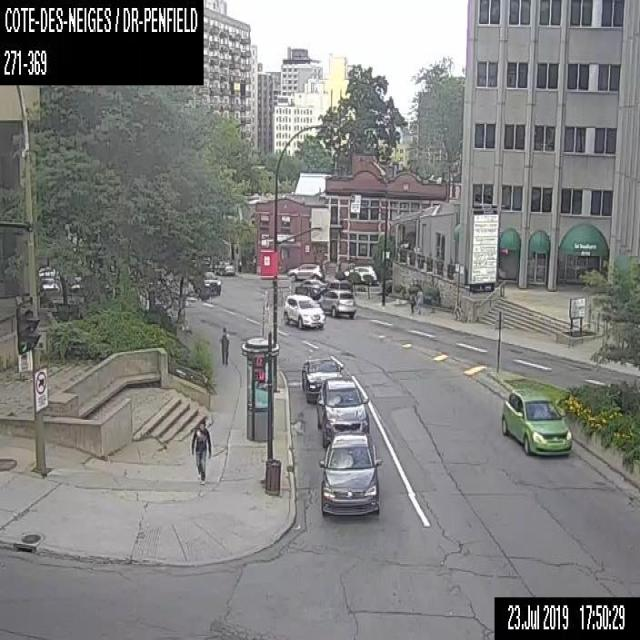pedestrian: (188, 420, 212, 480), (219, 327, 228, 364), (408, 289, 416, 312), (416, 288, 422, 312)
vehicle: (499, 385, 574, 459), (317, 433, 382, 517), (316, 375, 369, 445), (301, 354, 344, 400), (282, 292, 324, 329), (317, 288, 356, 317), (293, 278, 327, 300), (341, 264, 378, 282), (288, 263, 322, 281), (200, 270, 221, 294), (214, 259, 233, 274), (326, 279, 352, 289)
